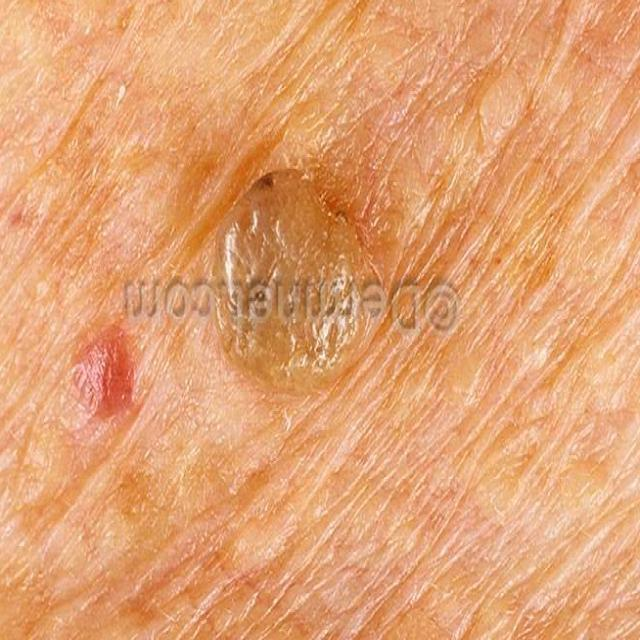Eczema: (73, 156, 391, 426)
